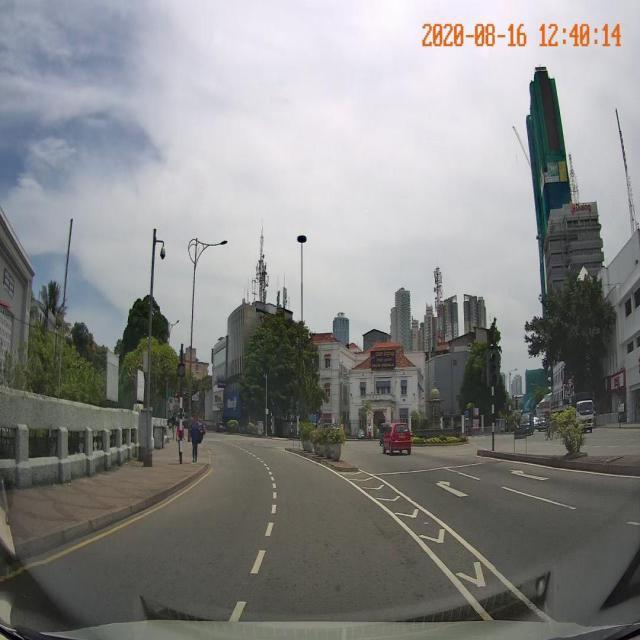Strelka vpravo: (436, 481, 470, 497), (509, 470, 550, 481)
